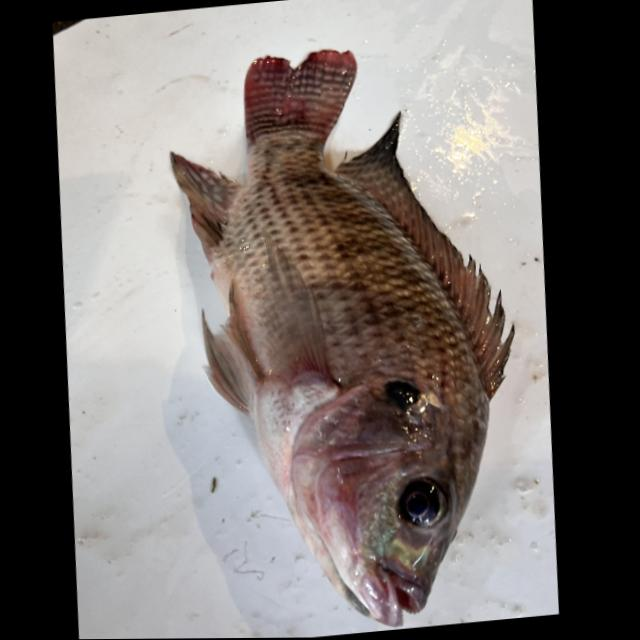Tilapia: (141, 29, 558, 639)
